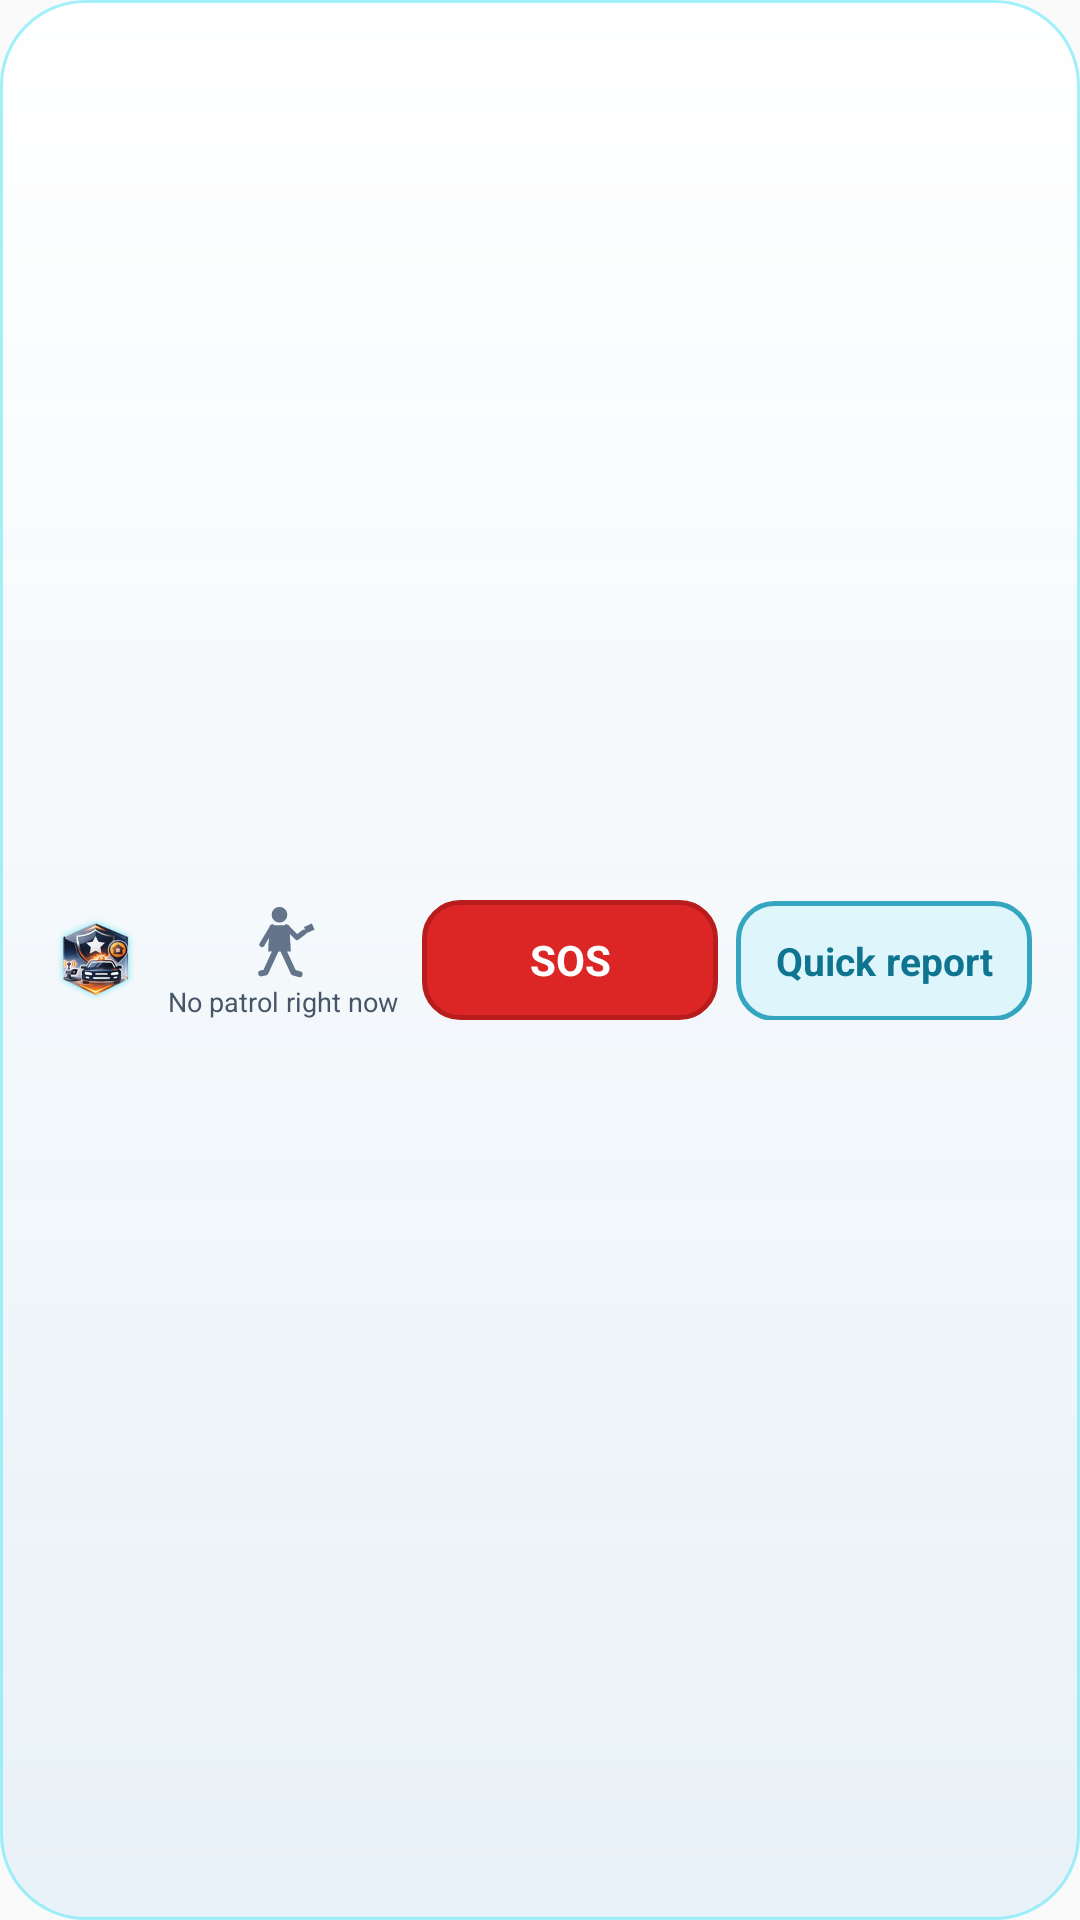

Named icons in this screenshot (1080 × 1920) and their bounding boxes, (x1=x1, y1=y1, x2=x2, y2=y2):
widget torch patroller off: (x1=258, y1=907, x2=315, y2=978)
